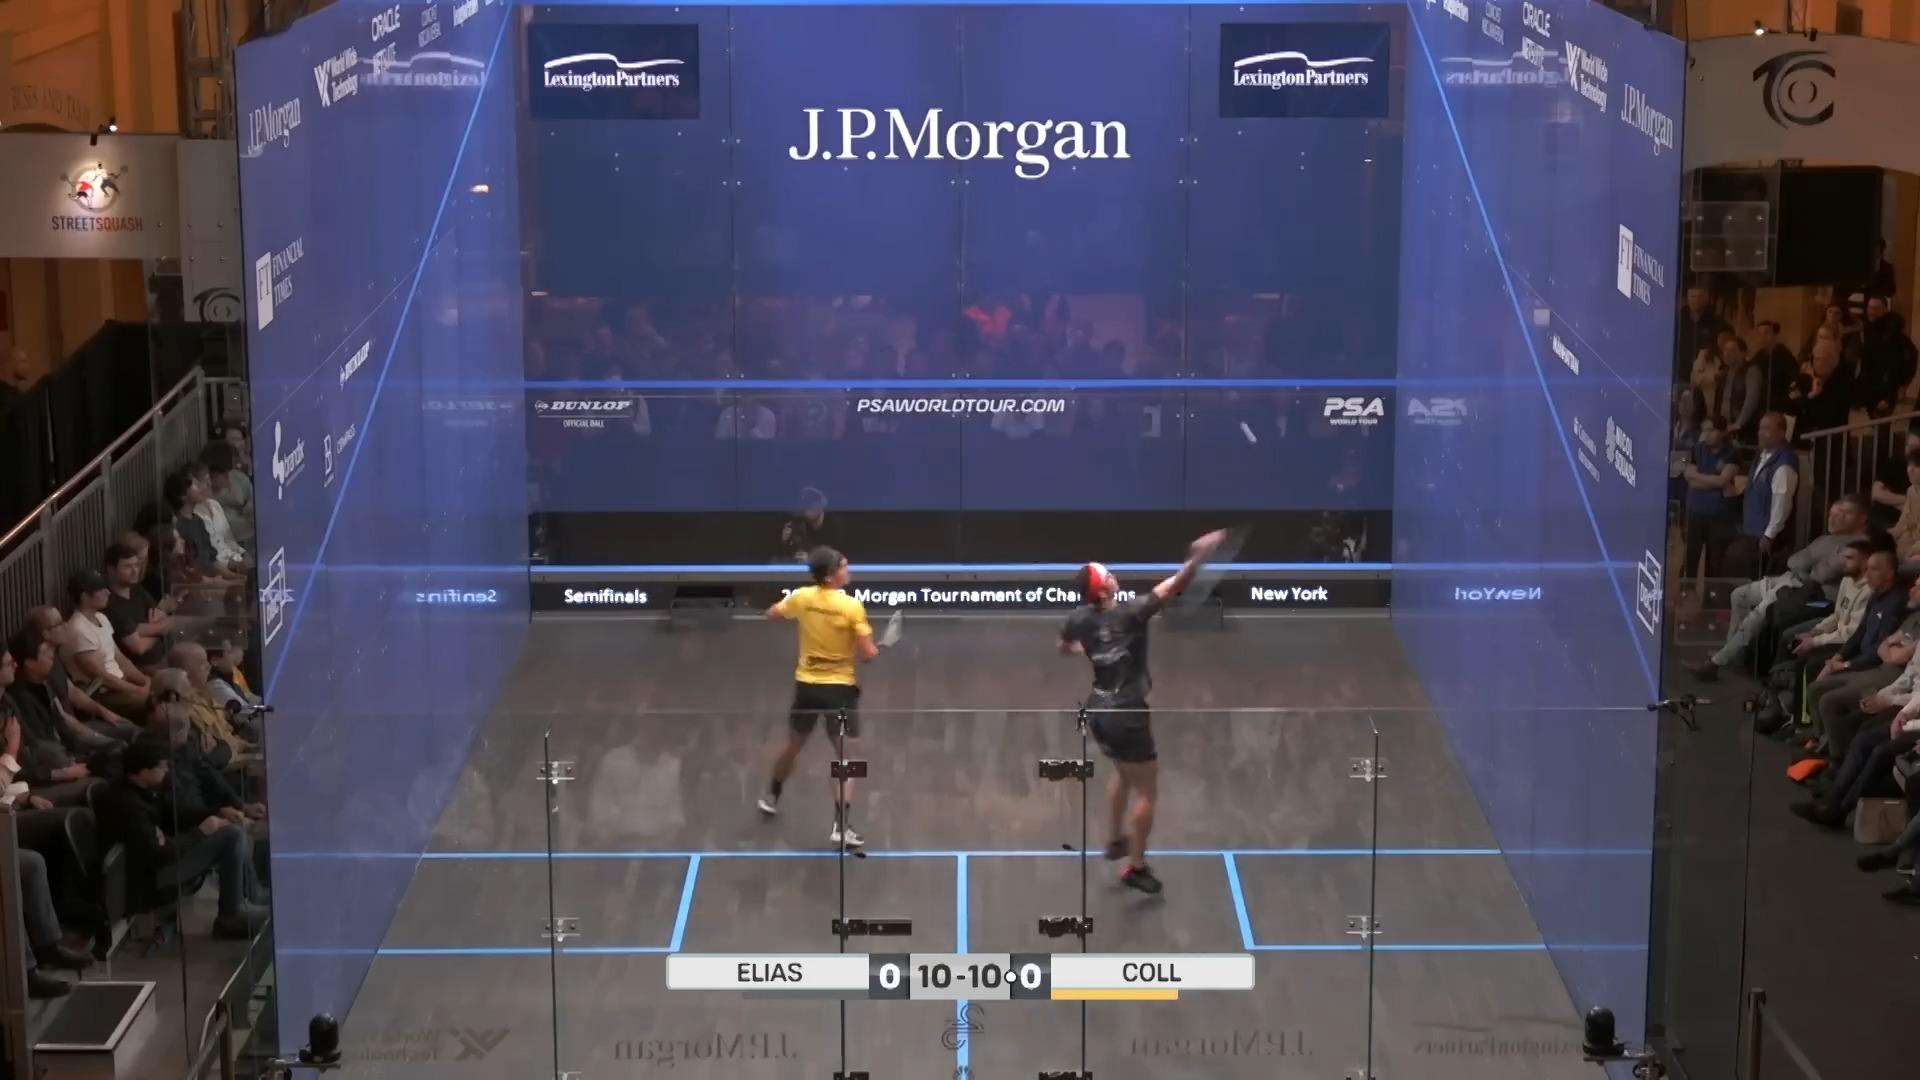Racket: (878, 600, 916, 661)
